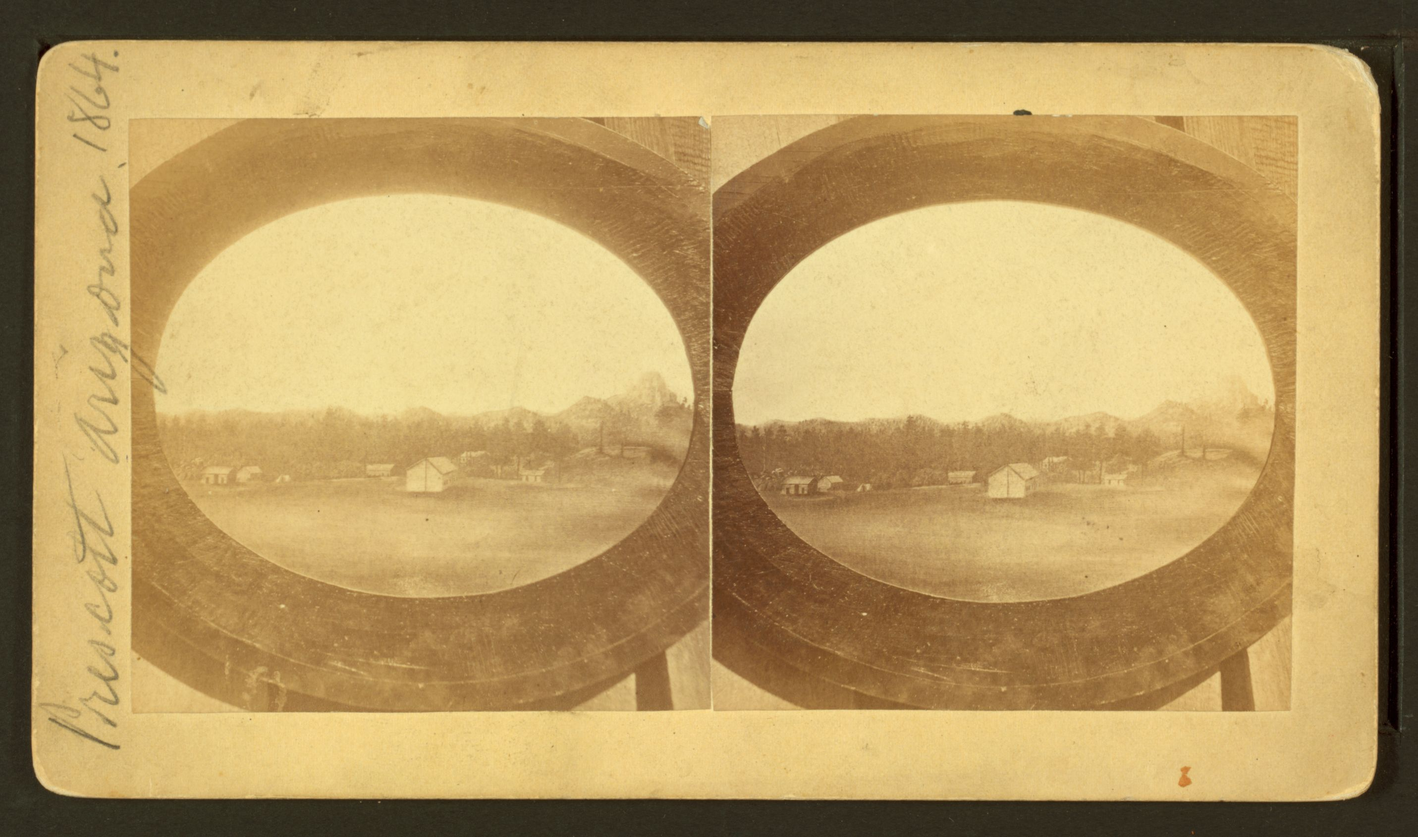half_image: (713, 117, 1298, 712), (130, 117, 712, 712)
